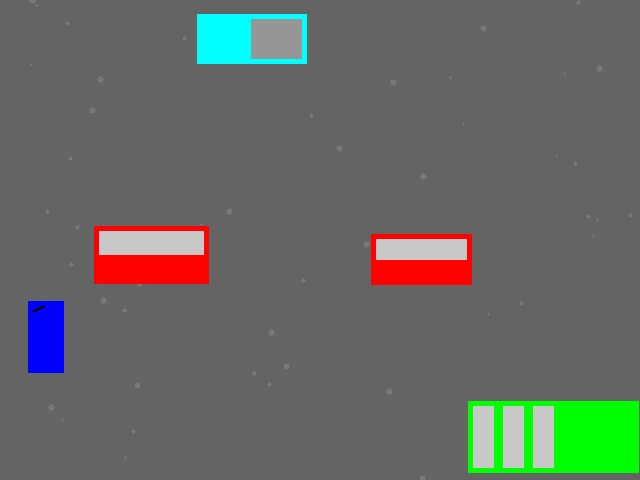bus: (468, 401, 638, 472)
car: (94, 226, 208, 283), (371, 234, 471, 284)
motorcycle: (28, 301, 63, 372)
truck: (197, 14, 306, 63)
